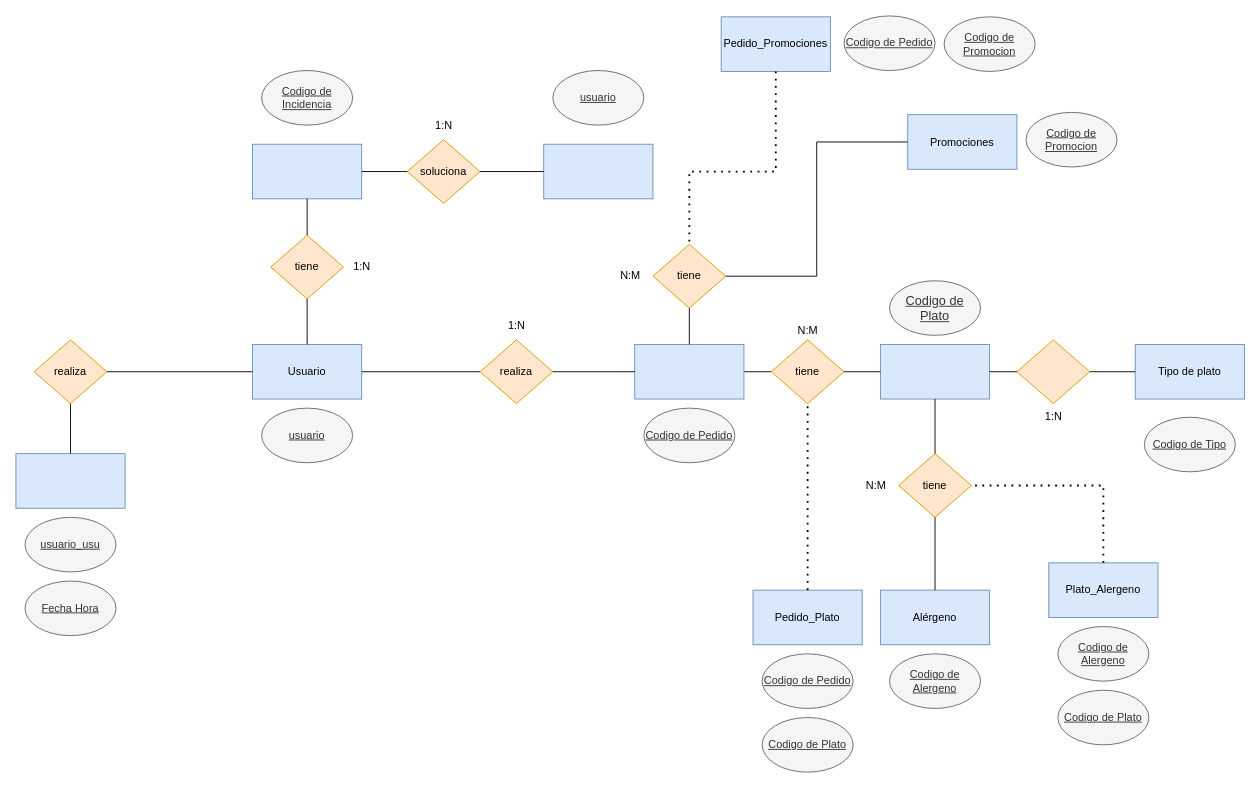
The diagram is 1260 pixels wide and 788 high, and some of its shapes have lost their labels. The shapes that lost their labels are listed below. From the top down, each one's box as (x1, y1, x2, y2) in pixels, then its label:
(252, 143, 362, 199): Incidencia
(543, 143, 653, 199): Administrador
(634, 344, 744, 399): Pedido
(880, 344, 990, 399): Plato
(1016, 339, 1090, 404): es
(15, 453, 125, 508): Reserva
